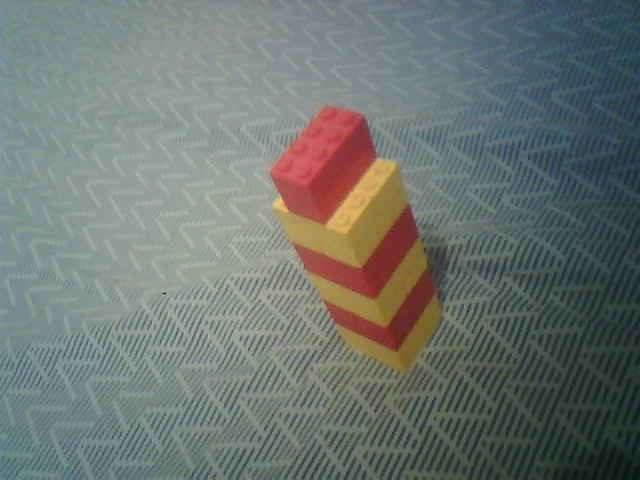lego: (269, 103, 442, 372)
